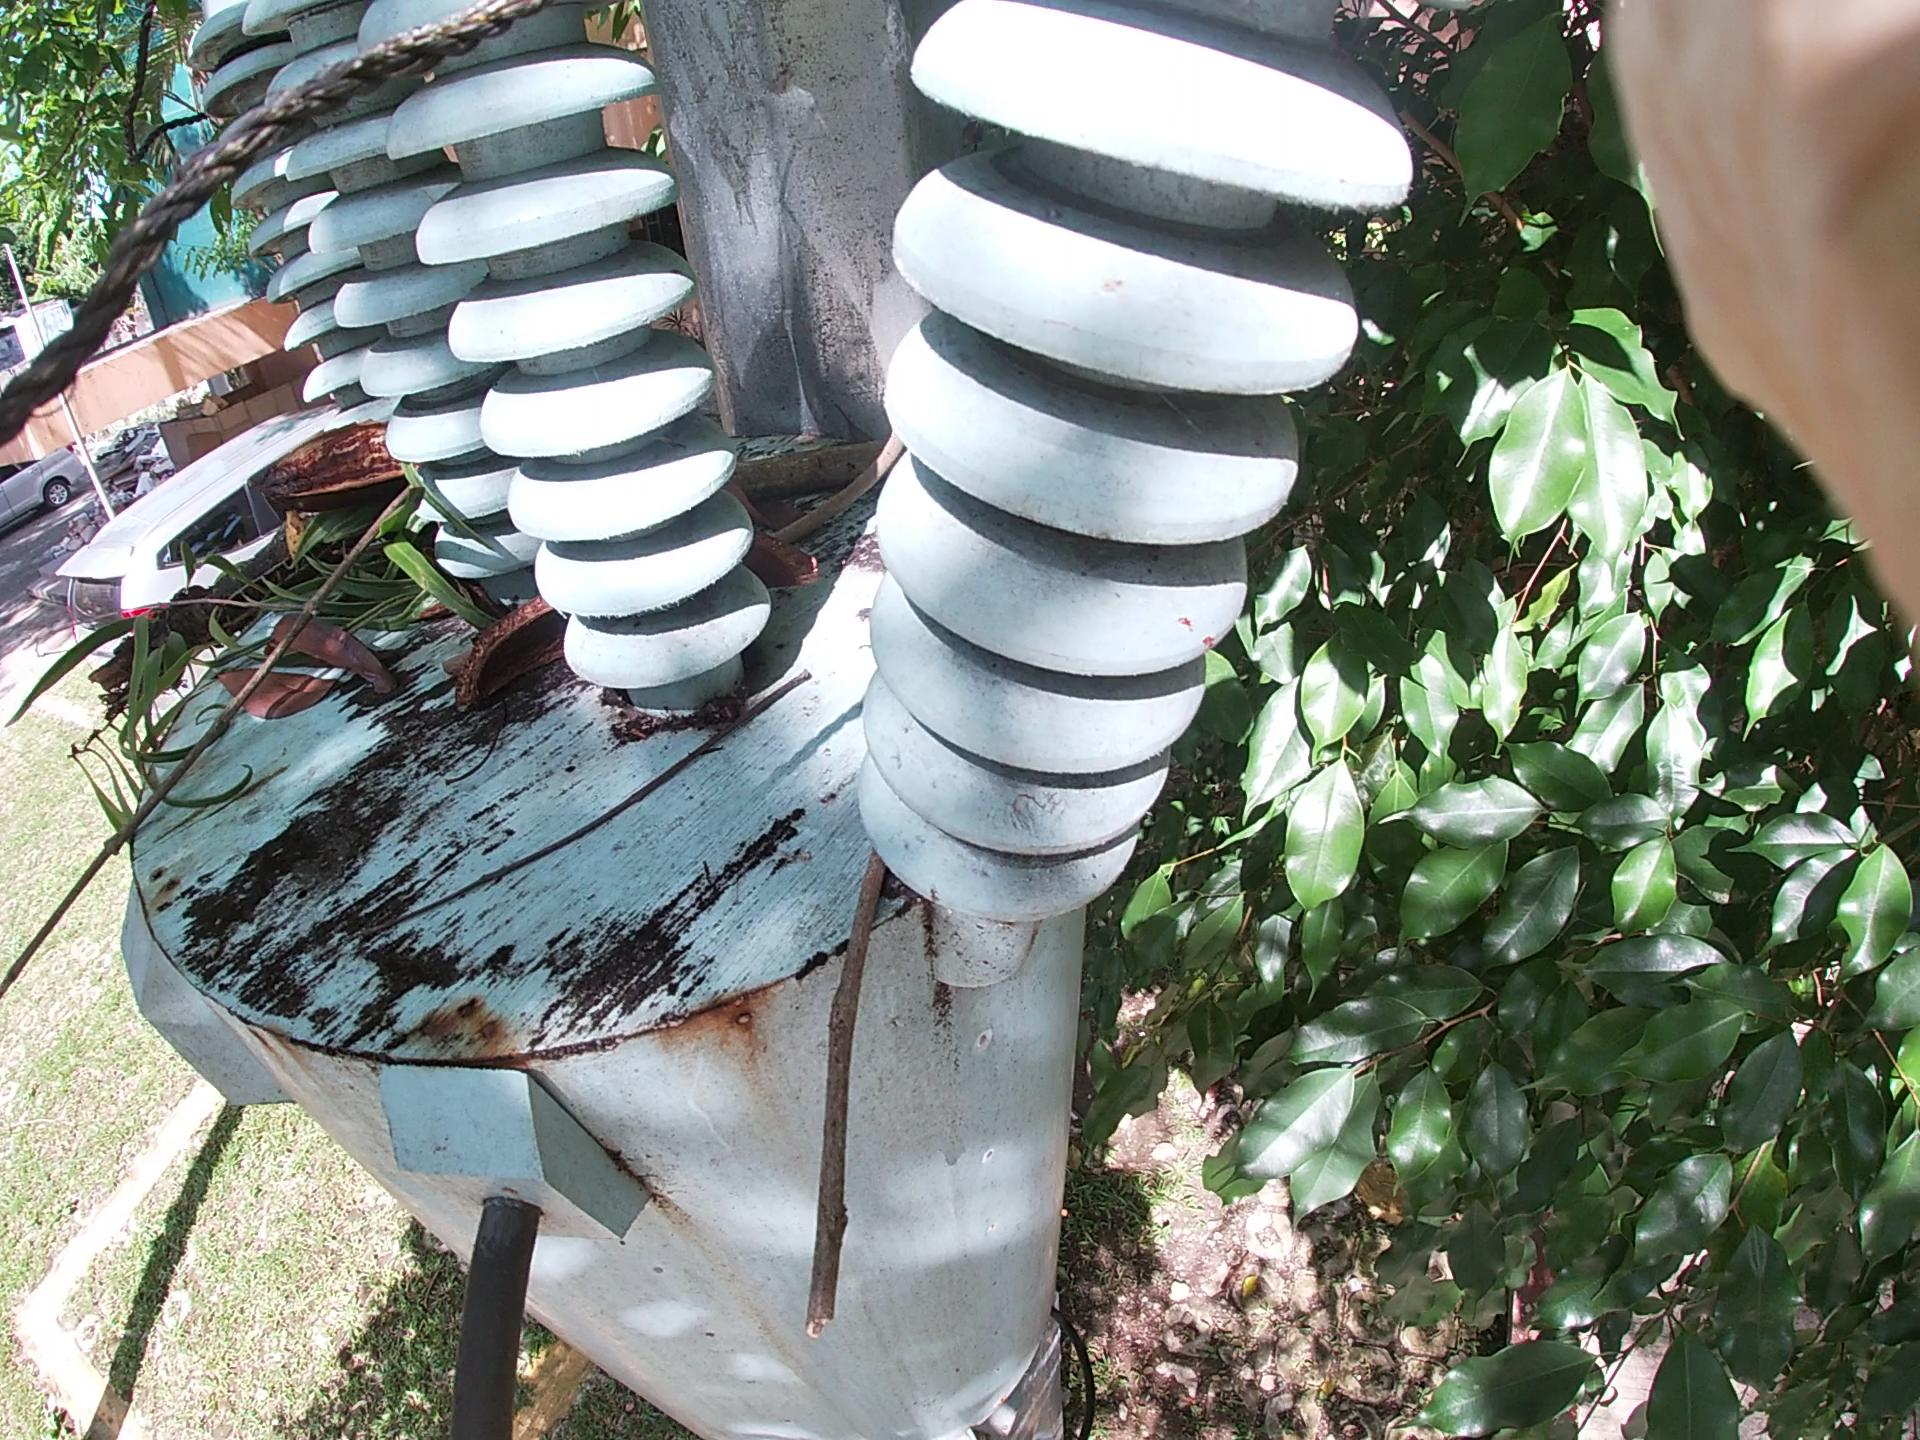branch with leaves: (110, 424, 444, 700)
leaf: (221, 546, 428, 781), (190, 585, 410, 765)
mahogany fruit: (414, 582, 745, 726), (254, 389, 419, 551)
tree branch: (14, 483, 395, 992), (367, 641, 801, 926), (754, 357, 974, 566), (816, 800, 874, 1311)
